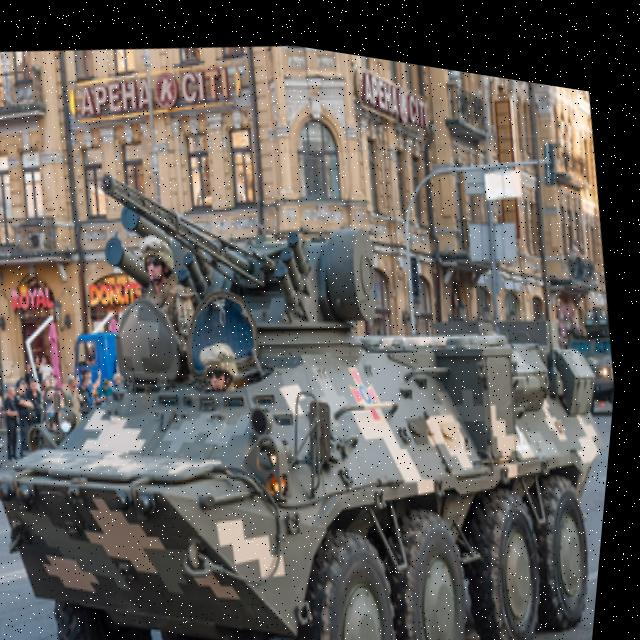MIL_APC: (0, 126, 631, 640)
